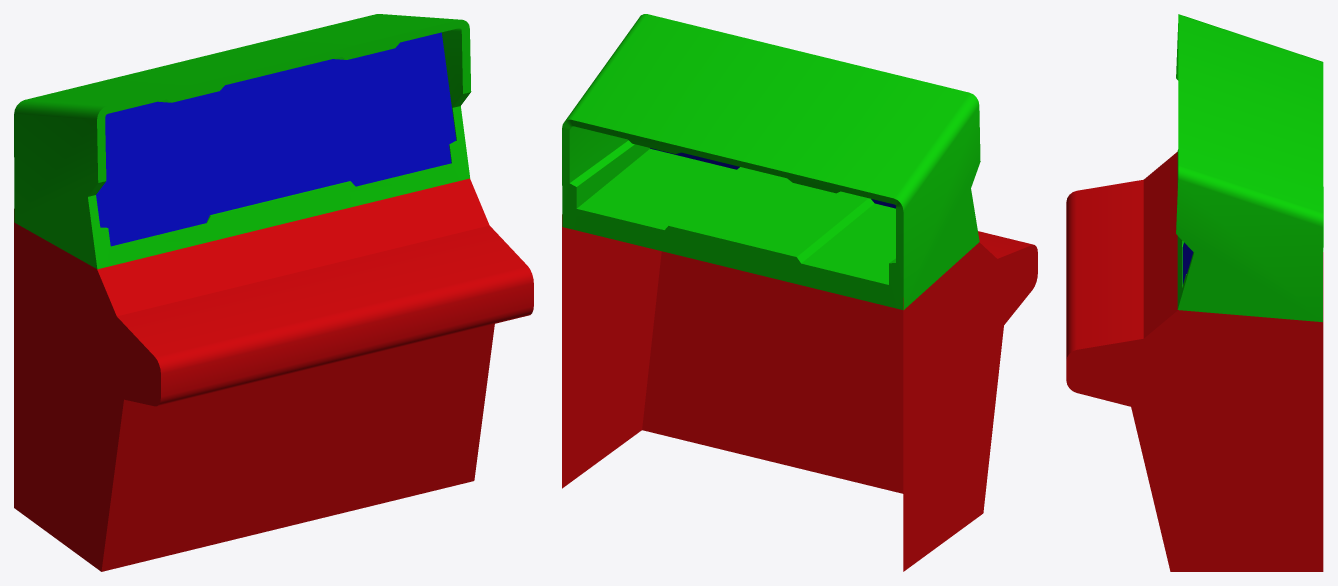
The model's file is Center_control_l 1.fbx.
3 renders of one model, left to right at view 1: azimuth 30°, elevation 25°; view 2: azimuth 150°, elevation 25°; view 3: azimuth 270°, elevation 25°, orthographic. The views are drawn at different scales.
Parts seen in each view (by area): view 1: Cube.050.frozen; view 2: Cube.050.frozen; view 3: Cube.050.frozen.
Boxes of the visible parts, left/top/right/bottom form: Cube.050.frozen: left=14, top=14, right=533, bottom=571; Cube.050.frozen: left=562, top=14, right=1037, bottom=571; Cube.050.frozen: left=1066, top=14, right=1323, bottom=571.
Size of the model in its own units: 132 by 90.21 by 156.
